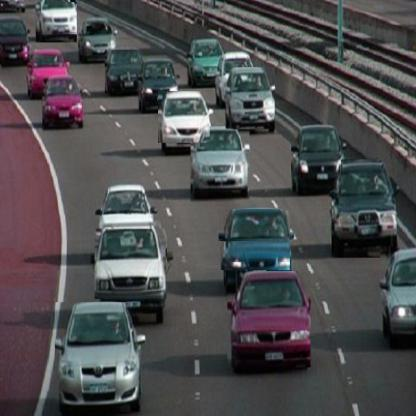car: (55, 303, 144, 414), (228, 272, 311, 370), (332, 160, 398, 260), (95, 230, 168, 301), (191, 127, 250, 204), (219, 210, 291, 272), (381, 247, 416, 349), (292, 125, 342, 196), (226, 69, 276, 132), (159, 92, 211, 145), (43, 76, 85, 136), (36, 3, 78, 45), (105, 51, 144, 95), (2, 16, 28, 75)
